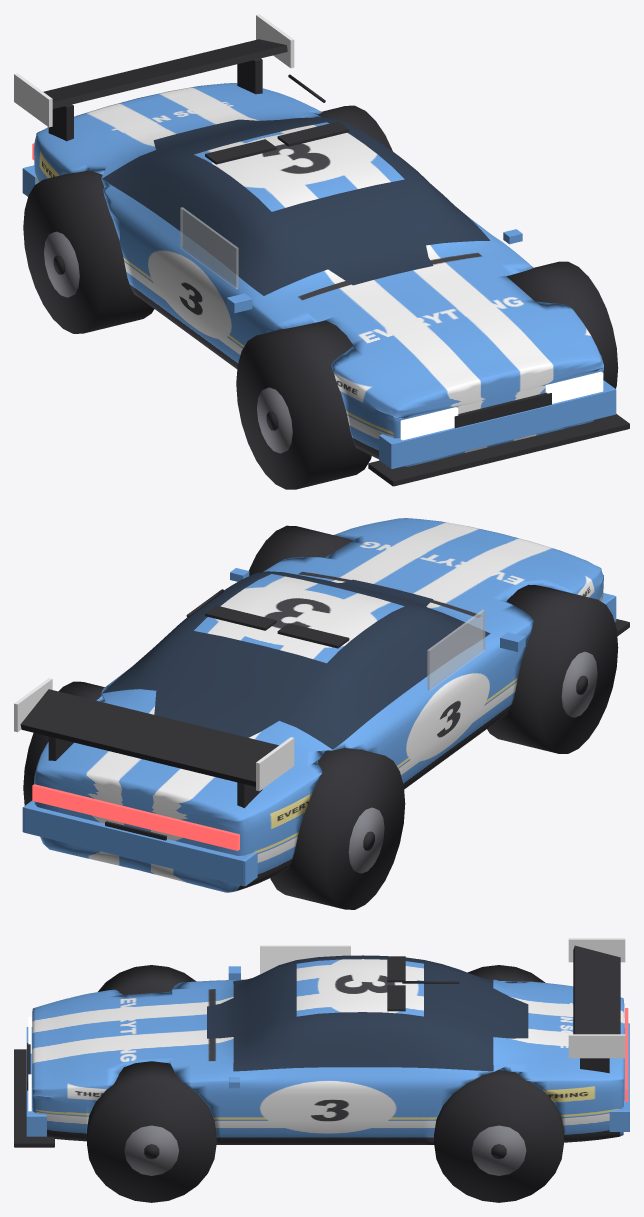
File: car_3.glb
3 renders of one model, top to bottom at view 1: azimuth 30°, elevation 25°; view 2: azimuth 150°, elevation 25°; view 3: azimuth 270°, elevation 25°, orthographic. The views are drawn at different scales.
Parts seen in each view (by area): view 1: body, cutter, cutter.002, bumperF, spoiler, cutter.001, splitter, net, dish, dish.002, grille, endplate (+8 smaller); view 2: body, cutter, cutter.002, spoiler, bumperR, tail, net, cutter.001, dish, dish.002, cutter.003, endplate (+3 smaller); view 3: body, cutter.001, cutter.003, spoiler, dish.003, dish.001, cutter, splitter, net, endplate.001, endplate, cutter.002 (+5 smaller).
Part boxes in pixels (x1=…): body: x1=34, y1=83, x2=603, y2=466; cutter: x1=236, y1=320, x2=371, y2=489; cutter.002: x1=23, y1=170, x2=154, y2=333; bumperF: x1=379, y1=380, x2=616, y2=468; spoiler: x1=43, y1=39, x2=287, y2=108; cutter.001: x1=507, y1=261, x2=618, y2=388; splitter: x1=368, y1=414, x2=629, y2=486; net: x1=180, y1=207, x2=238, y2=288; dish: x1=257, y1=387, x2=292, y2=453; dish.002: x1=44, y1=231, x2=79, y2=297; grille: x1=454, y1=392, x2=551, y2=428; endplate: x1=14, y1=73, x2=52, y2=127; body: x1=34, y1=518, x2=603, y2=892; cutter: x1=487, y1=584, x2=618, y2=753; cutter.002: x1=270, y1=748, x2=405, y2=909; spoiler: x1=20, y1=689, x2=278, y2=786; bumperR: x1=22, y1=801, x2=257, y2=886; tail: x1=32, y1=784, x2=239, y2=850; net: x1=427, y1=609, x2=485, y2=691; cutter.001: x1=249, y1=525, x2=352, y2=575; dish: x1=561, y1=651, x2=597, y2=717; dish.002: x1=348, y1=807, x2=384, y2=873; cutter.003: x1=23, y1=681, x2=104, y2=805; endplate: x1=256, y1=737, x2=294, y2=791; body: x1=32, y1=955, x2=624, y2=1144; cutter.001: x1=87, y1=1061, x2=216, y2=1202; cutter.003: x1=434, y1=1070, x2=563, y2=1202; spoiler: x1=573, y1=945, x2=620, y2=1034; dish.003: x1=471, y1=1125, x2=526, y2=1175; dish.001: x1=124, y1=1125, x2=178, y2=1175; cutter: x1=98, y1=965, x2=196, y2=995; splitter: x1=14, y1=1049, x2=54, y2=1147; net: x1=260, y1=945, x2=350, y2=974; endplate.001: x1=568, y1=1034, x2=625, y2=1058; endplate: x1=568, y1=938, x2=625, y2=962; cutter.002: x1=468, y1=965, x2=545, y2=982.
Bounding box in the file's own units: 2.58 × 1.76 × 5.41.
11 materials, 1 textured.
